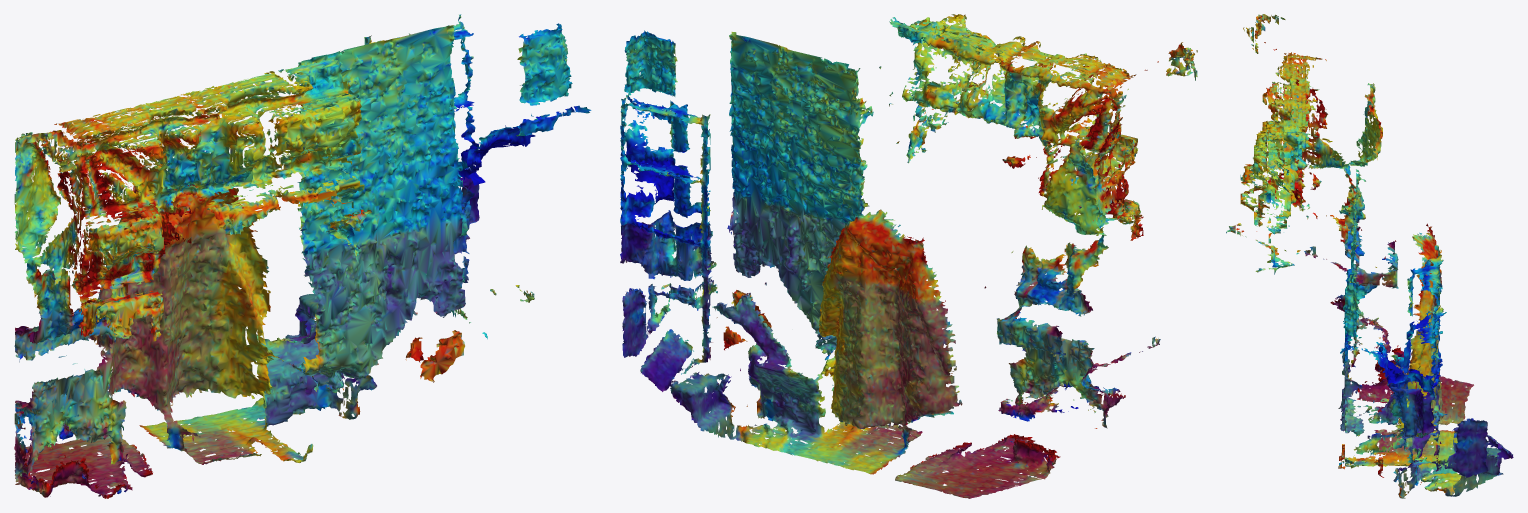
File: mesh_iter_0003.obj
The picture shows the model from 3 angles, left to right: view 1: azimuth 30°, elevation 25°; view 2: azimuth 150°, elevation 25°; view 3: azimuth 270°, elevation 25°; orthographic projection. The views are drawn at different scales.
Bounding box in the file's own units: 3.03 × 2.14 × 1.64.
